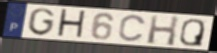6: (90, 12, 115, 41)
C: (117, 14, 147, 43)
G: (27, 8, 56, 37)
H: (146, 14, 180, 47), (56, 8, 88, 41)
Q: (178, 18, 206, 48)
